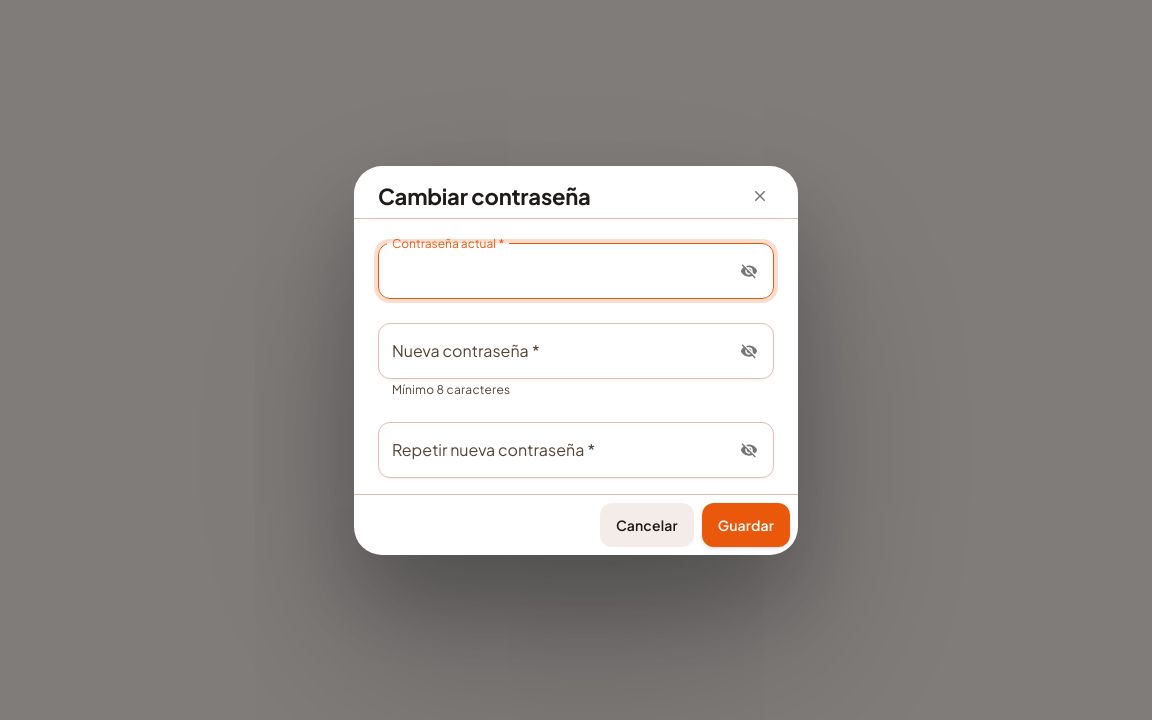
ChangePasswordDialog › rejects reusing the current password as the new one
In the password field labelled "Contraseña actual *": (552,270) [378,242,727,298], type "same-secret-1"
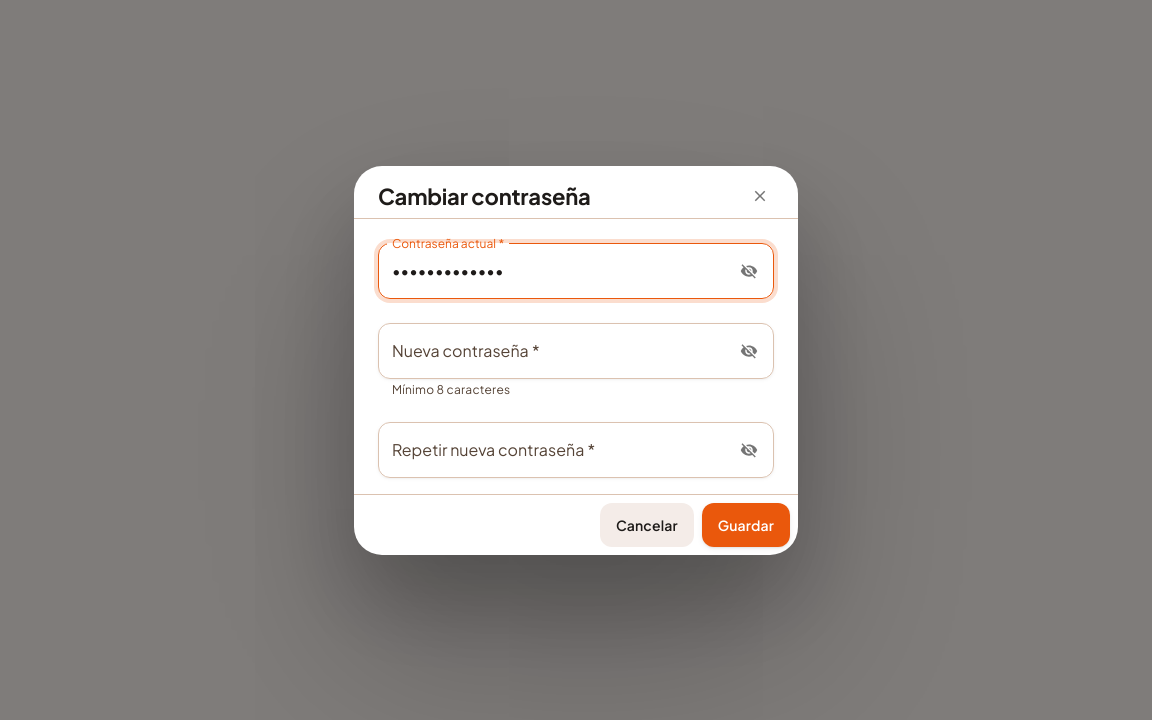
In the password field labelled "Nueva contraseña *": (552,350) [378,322,727,378], type "same-secret-1"
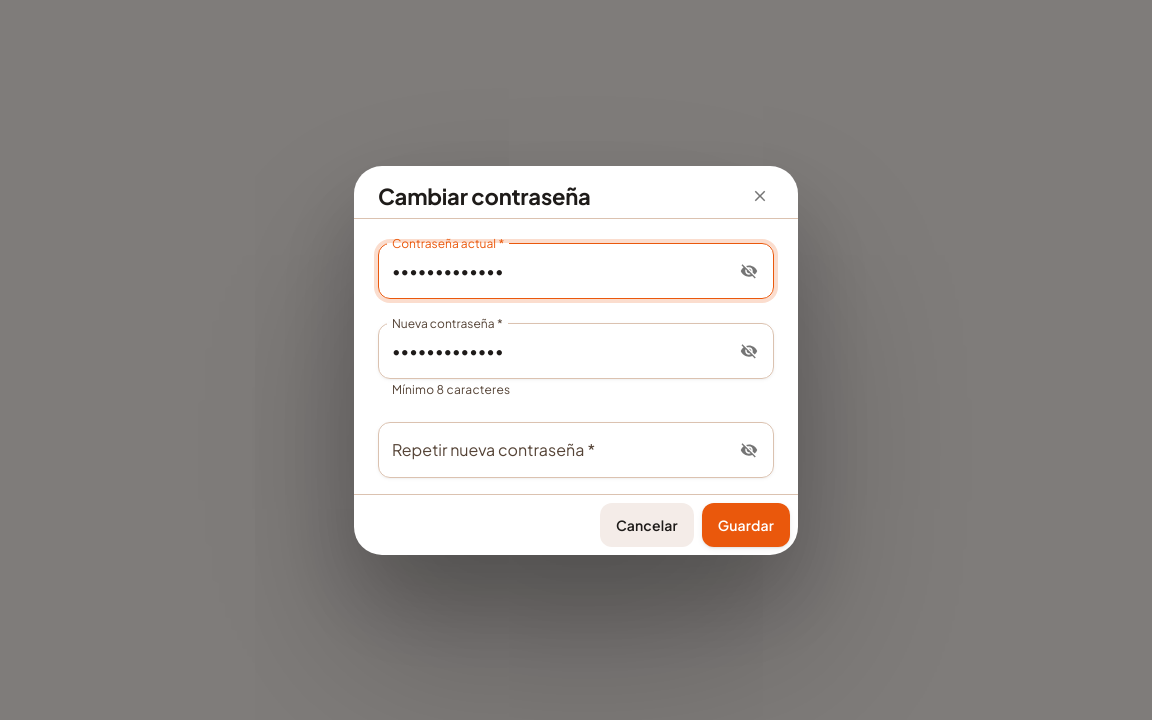
In the password field labelled "Repetir nueva contraseña *": (552,450) [378,422,727,478], type "same-secret-1"
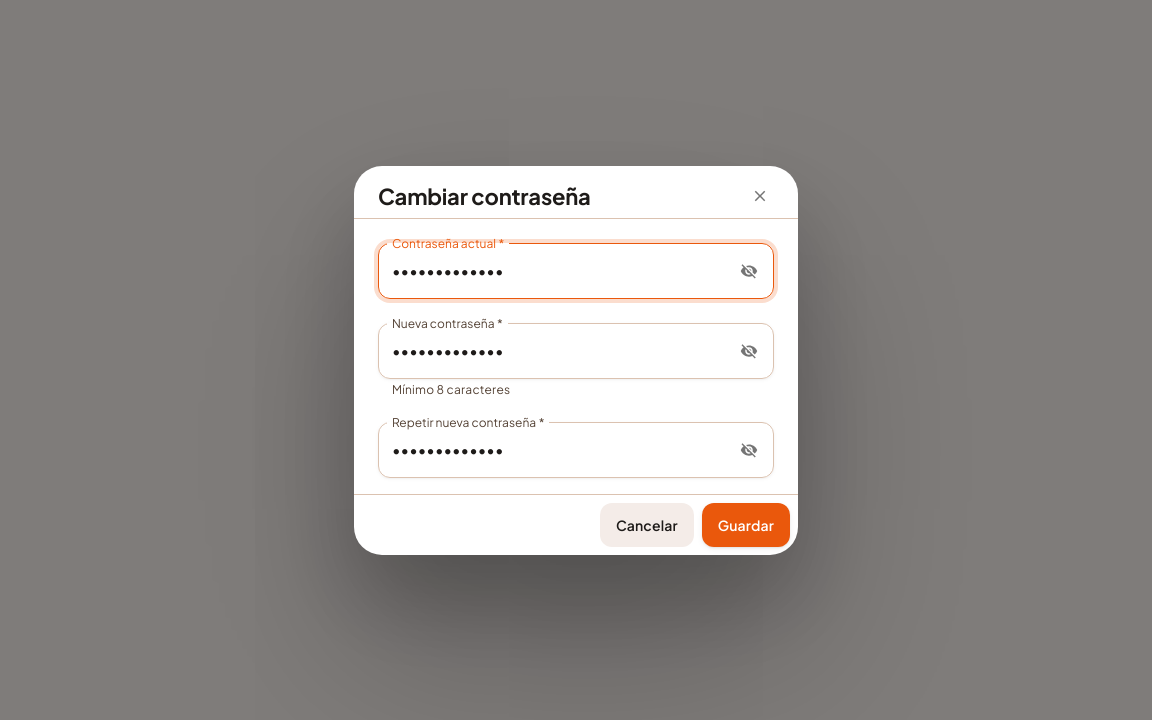
Click the button "Guardar": (746,524) [702,502,790,546]
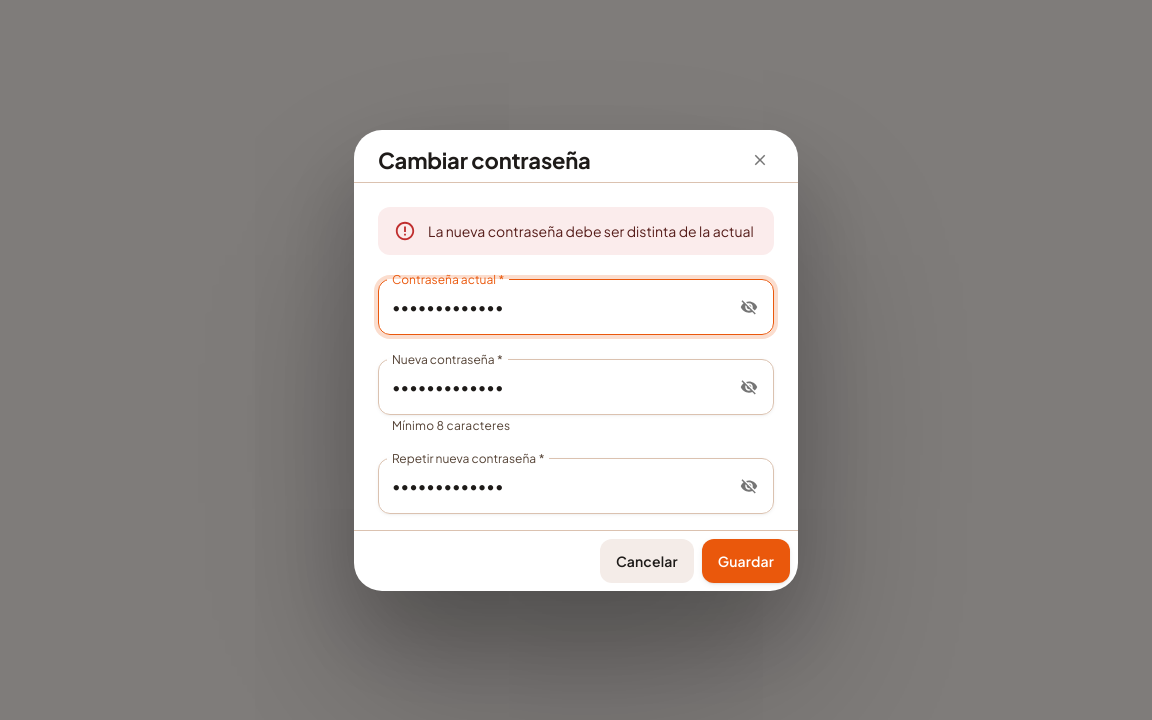
Expected: the text "La nueva contraseña debe ser distinta de la actual" is shown, [428,222,754,240]
